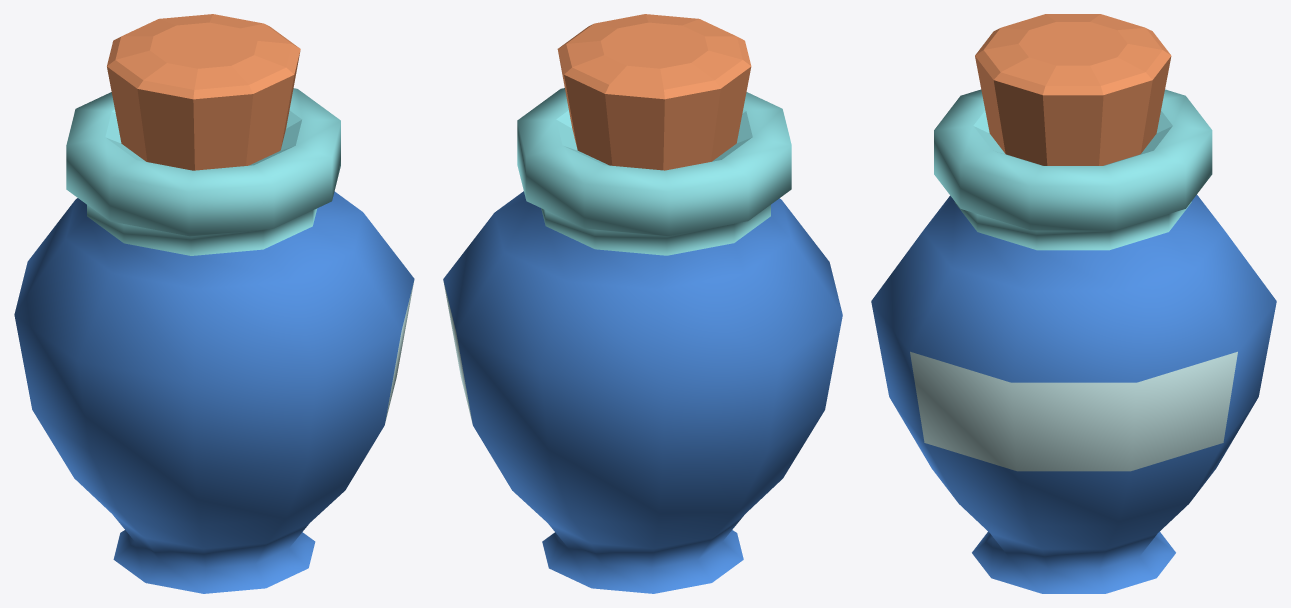
Rendered from bootle (1).fbx.
3 views of the same model, side by side, from view 1: azimuth 30°, elevation 25°; view 2: azimuth 150°, elevation 25°; view 3: azimuth 270°, elevation 25° (orthographic).
Visible parts, largest first — view 1: Circle.066; view 2: Circle.066; view 3: Circle.066.
Part boxes in pixels (x1,y1,x2,y2): Circle.066: (14,14,414,593); Circle.066: (443,14,842,593); Circle.066: (871,14,1276,593).
Bounding box in the file's own units: 46.89 × 67.55 × 49.31.
